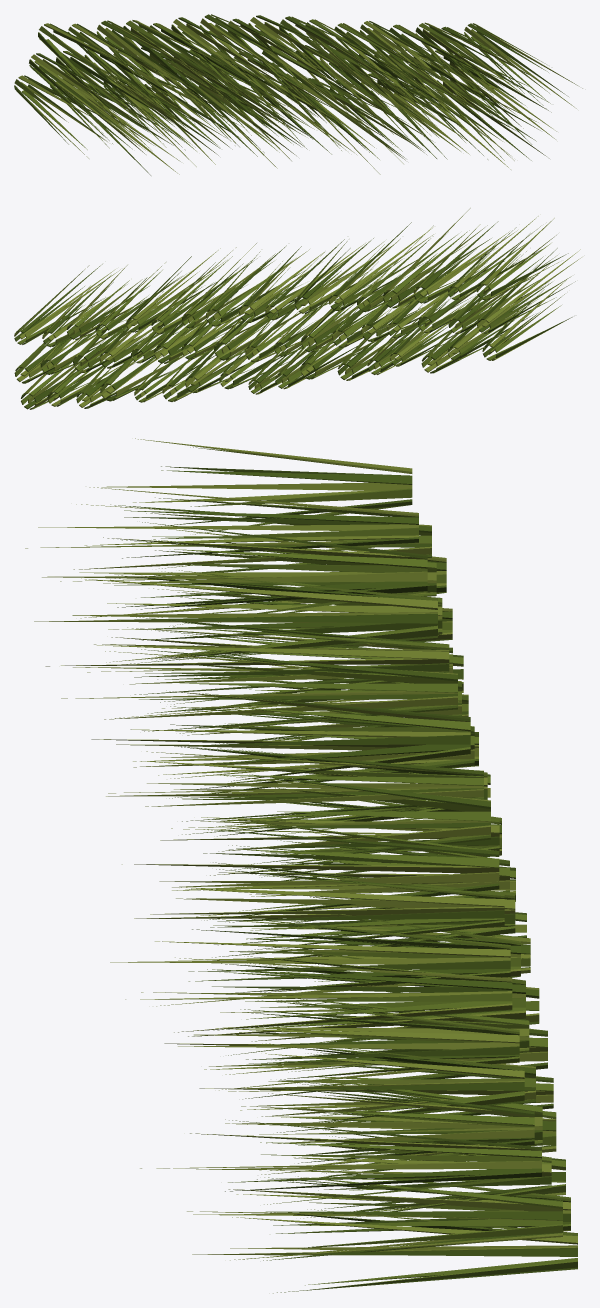
The model's file is path_grass.obj.
3 views of the same model, one above another, from view 1: azimuth 30°, elevation 25°; view 2: azimuth 150°, elevation 25°; view 3: azimuth 270°, elevation 25° (orthographic). The views are drawn at different scales.
Parts seen in each view (by area): view 1: path_grass; view 2: path_grass; view 3: path_grass.
Boxes of the visible parts, bbox=[...] form: path_grass: bbox=[14, 14, 582, 175]; path_grass: bbox=[14, 208, 581, 409]; path_grass: bbox=[25, 438, 577, 1293].
Bounding box in the file's own units: 7.83 × 3.48 × 3.89.
